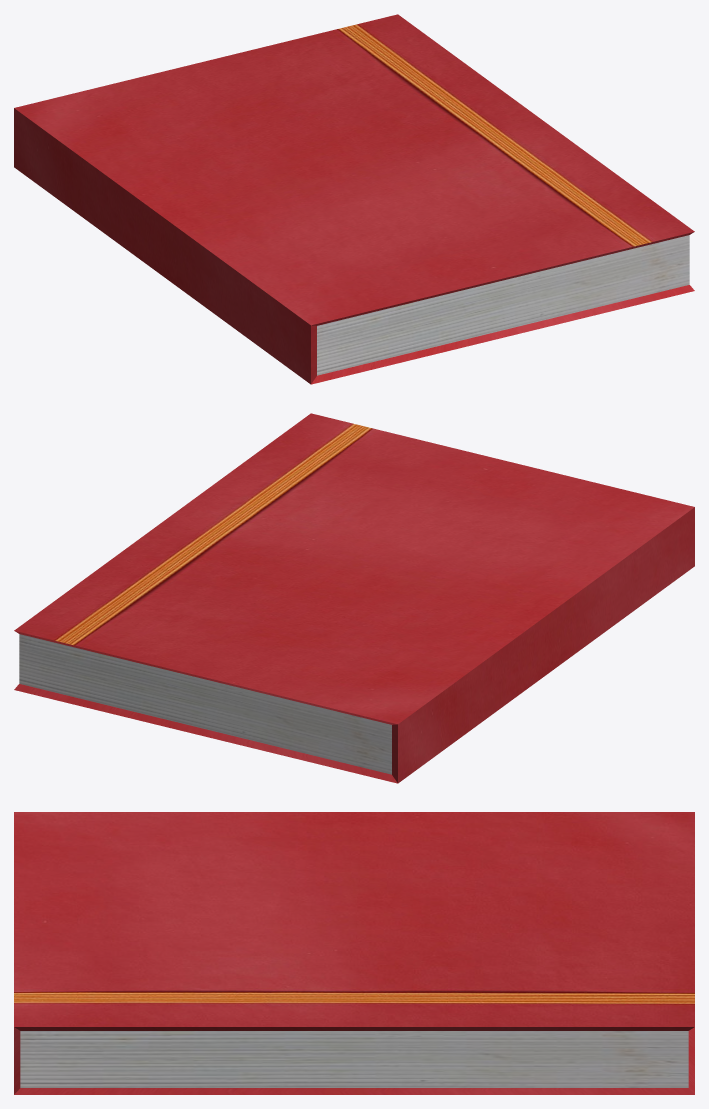
The model's file is Notebook 1.FBX.
3 views of the same model, one above another, from view 1: azimuth 30°, elevation 25°; view 2: azimuth 150°, elevation 25°; view 3: azimuth 270°, elevation 25° (orthographic). The views are drawn at different scales.
Visible parts, largest first — view 1: notebook 1; view 2: notebook 1; view 3: notebook 1.
Boxes of the visible parts, x1=… form: notebook 1: x1=14, y1=14, x2=694, y2=384; notebook 1: x1=14, y1=413, x2=694, y2=783; notebook 1: x1=14, y1=812, x2=694, y2=1094.
Bounding box in the file's own units: 13.24 × 1.95 × 17.73.
Materials: 1 (1 with a texture image).
